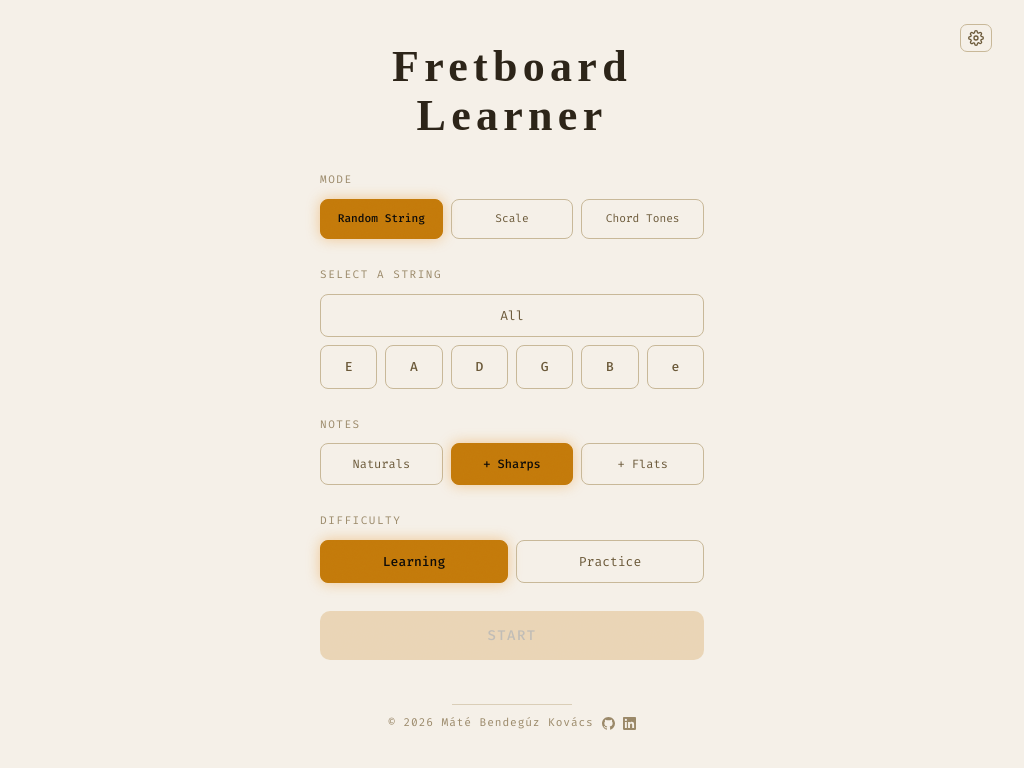
GameScreen — Heard indicator › shows — before any note is detected
The width and height of the screenshot is (1024, 768).
Click the button "A" at (414, 367), box top-left (385, 345), bottom-right (443, 389)
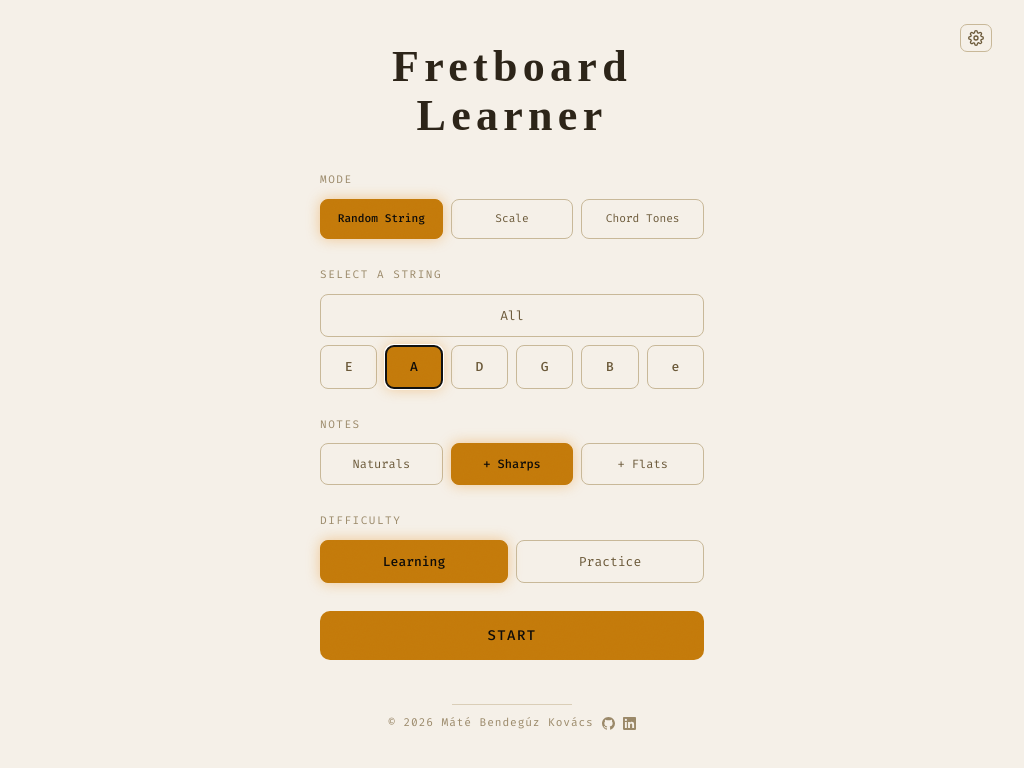
Click the button "Start" at (512, 636), box top-left (320, 611), bottom-right (704, 660)
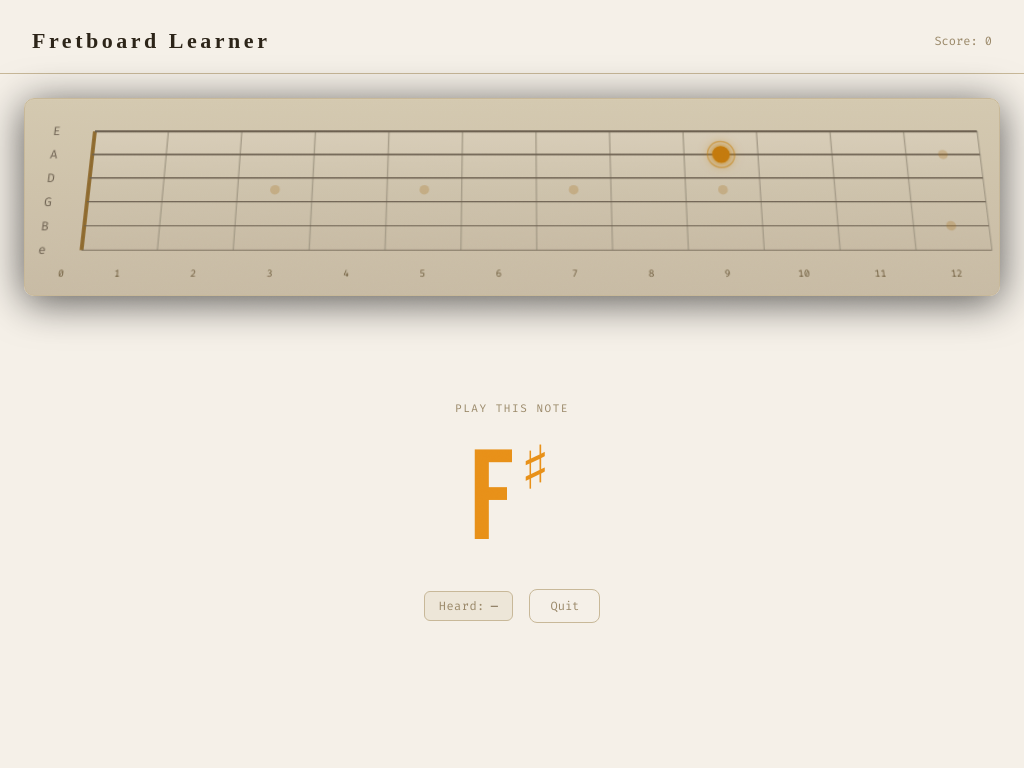
Result: the text with test id "heard-note" reads "—" at top-left (491, 598), bottom-right (498, 614)
